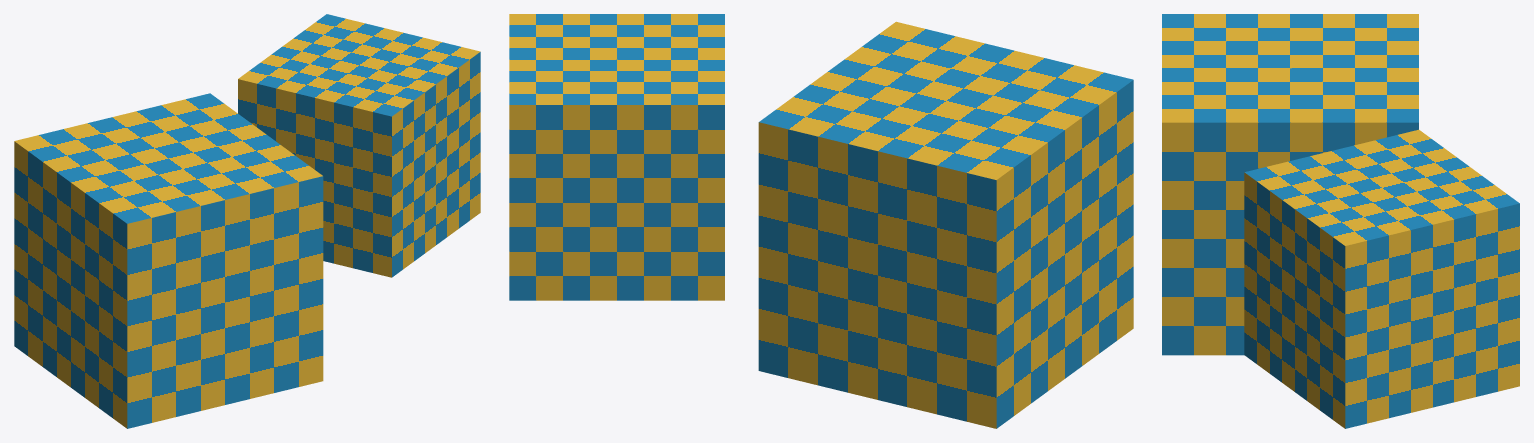
The model's file is cubes.gltf.
3 renders of one model, left to right at view 1: azimuth 30°, elevation 25°; view 2: azimuth 150°, elevation 25°; view 3: azimuth 270°, elevation 25°, orthographic. The views are drawn at different scales.
Size of the model in its own units: 3.1 by 1.45 by 1.95.
Materials: 1 (1 with a texture image).
